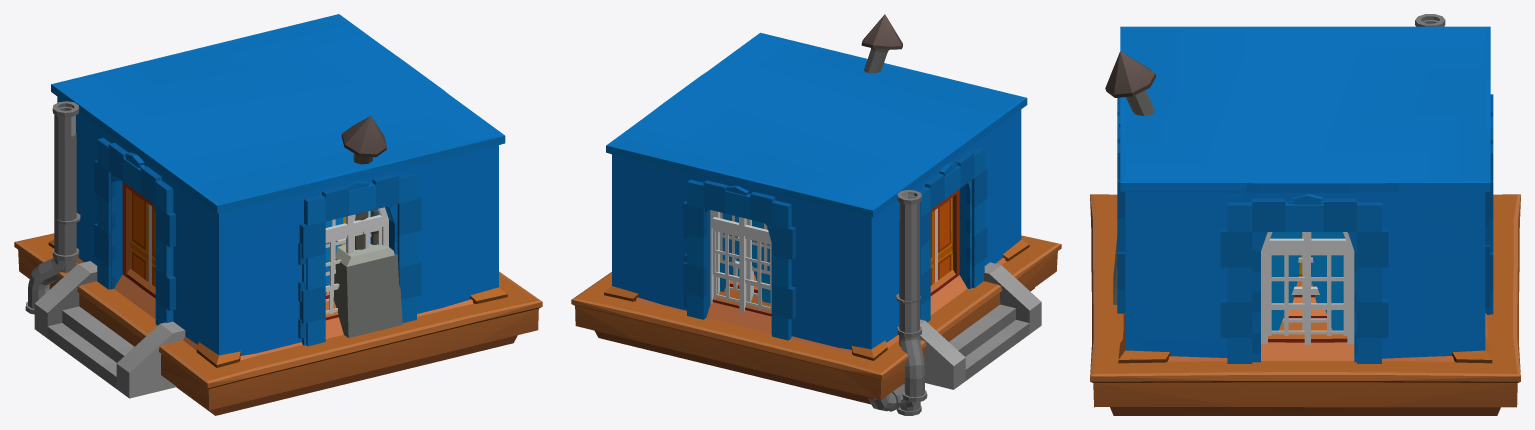
3 renders of one model, left to right at view 1: azimuth 30°, elevation 25°; view 2: azimuth 150°, elevation 25°; view 3: azimuth 270°, elevation 25°, orthographic. The views are drawn at different scales.
Parts seen in each view (by area): view 1: midSmallest, baseSmallest, TopSmallest.001; view 2: midSmallest, TopSmallest.001, baseSmallest; view 3: midSmallest, TopSmallest.001, baseSmallest.
Part boxes in pixels (<box>): midSmallest: <box>51,14,505,355</box>; baseSmallest: <box>25,92,504,398</box>; TopSmallest.001: <box>14,116,542,415</box>; midSmallest: <box>606,32,1027,383</box>; TopSmallest.001: <box>571,14,1061,415</box>; baseSmallest: <box>607,105,1041,402</box>; midSmallest: <box>1117,26,1493,363</box>; TopSmallest.001: <box>1090,51,1520,415</box>; baseSmallest: <box>1119,14,1491,362</box>.
Bounding box in the file's own units: 0.9213 × 0.6915 × 0.8494.
